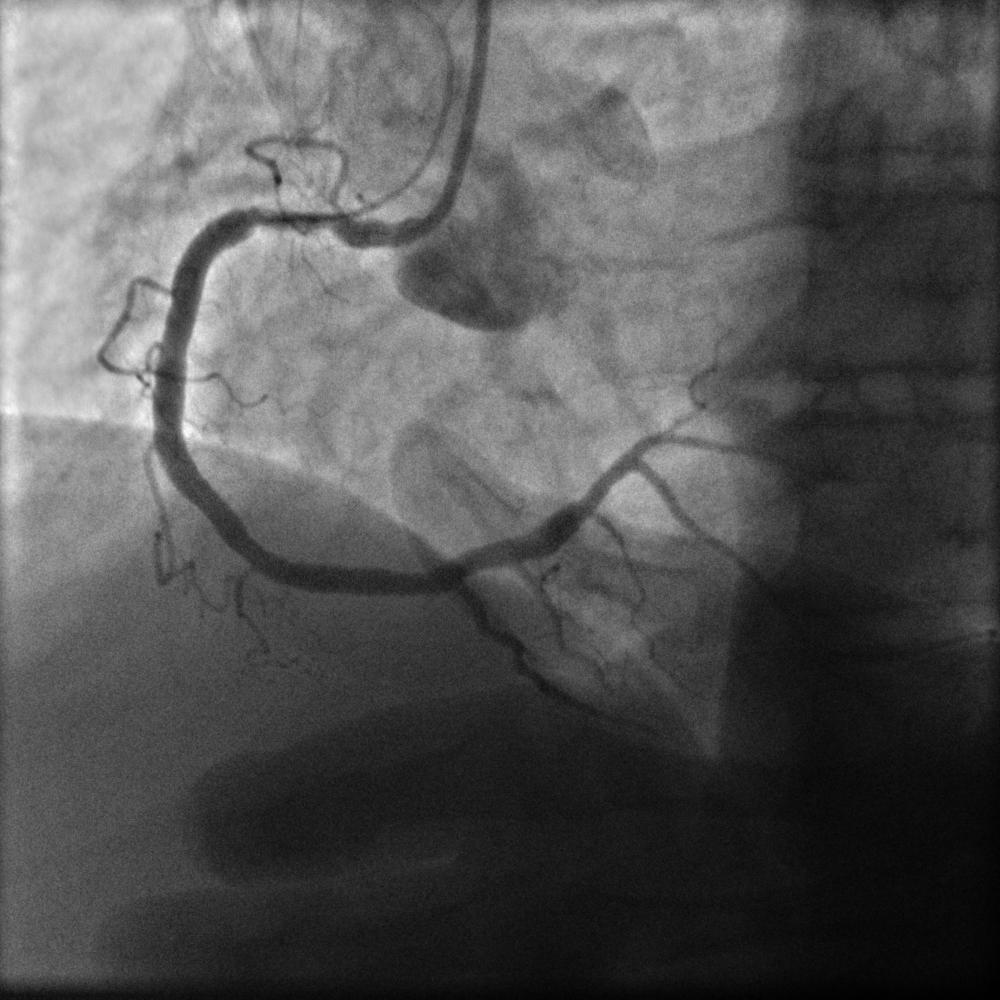Stenosis: (244, 194, 354, 256)
